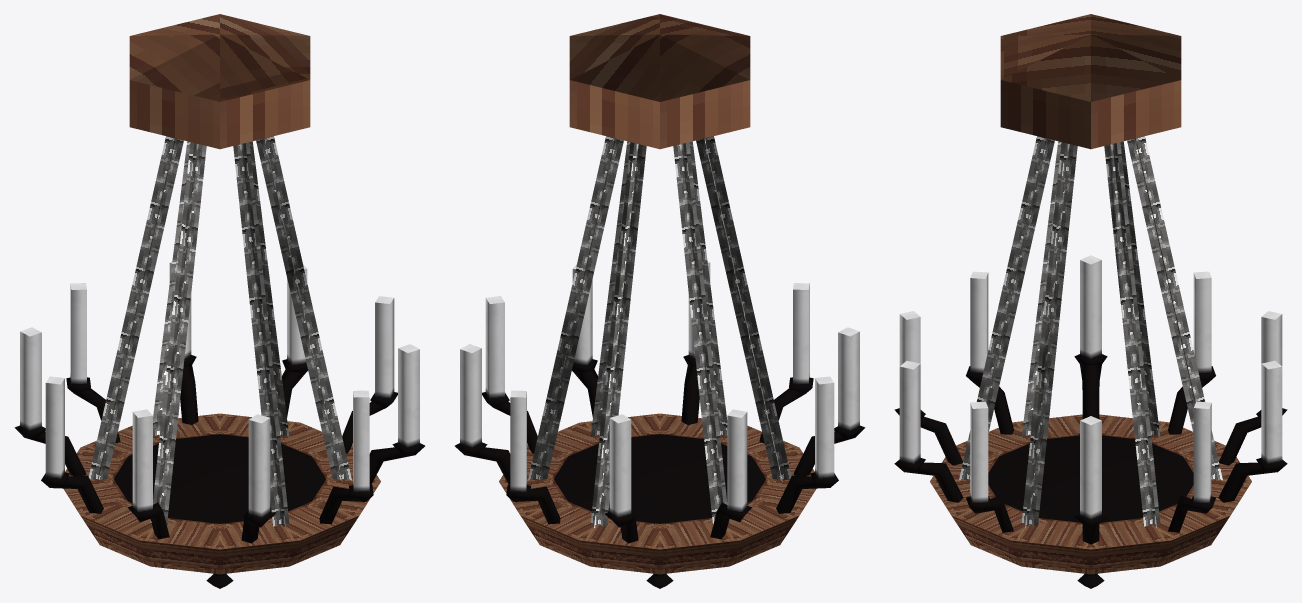
File: chandelier.obj
The picture shows the model from 3 angles, left to right: view 1: azimuth 30°, elevation 25°; view 2: azimuth 150°, elevation 25°; view 3: azimuth 270°, elevation 25°; orthographic projection.
Parts seen in each view (by area): view 1: Lounge_Lamp_5, Base, Lounge_Lamp_1, Lounge_Lamp_4, Lounge_Lamp_2, Lounge_Lamp_3; view 2: Lounge_Lamp_5, Base, Lounge_Lamp_1, Lounge_Lamp_4, Lounge_Lamp_2, Lounge_Lamp_3; view 3: Lounge_Lamp_5, Base, Lounge_Lamp_4, Lounge_Lamp_1, Lounge_Lamp_2, Lounge_Lamp_3.
Boxes of the visible parts, left/top/right/bottom form: Lounge_Lamp_5: left=88, top=136, right=351, bottom=527; Base: left=129, top=14, right=310, bottom=149; Lounge_Lamp_1: left=63, top=413, right=380, bottom=574; Lounge_Lamp_4: left=20, top=261, right=419, bottom=517; Lounge_Lamp_2: left=114, top=434, right=325, bottom=588; Lounge_Lamp_3: left=14, top=355, right=424, bottom=543; Lounge_Lamp_5: left=528, top=136, right=791, bottom=527; Base: left=569, top=14, right=750, bottom=149; Lounge_Lamp_1: left=499, top=413, right=816, bottom=574; Lounge_Lamp_4: left=460, top=261, right=859, bottom=517; Lounge_Lamp_2: left=554, top=434, right=765, bottom=588; Lounge_Lamp_3: left=455, top=355, right=865, bottom=543; Lounge_Lamp_5: left=959, top=136, right=1222, bottom=527; Base: left=1000, top=14, right=1181, bottom=149; Lounge_Lamp_4: left=899, top=255, right=1282, bottom=519; Lounge_Lamp_1: left=930, top=414, right=1251, bottom=574; Lounge_Lamp_2: left=988, top=435, right=1193, bottom=588; Lounge_Lamp_3: left=894, top=354, right=1287, bottom=544.
Bounding box in the file's own units: 7.94 × 11.74 × 7.55.
6 materials, 6 textured.
